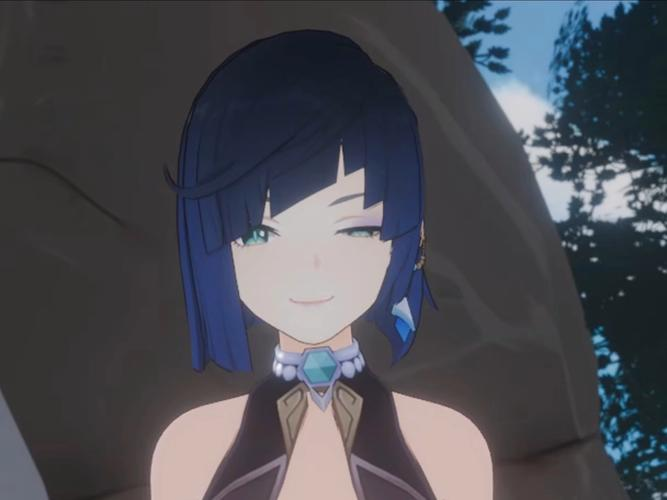夜兰: (132, 28, 498, 500)
